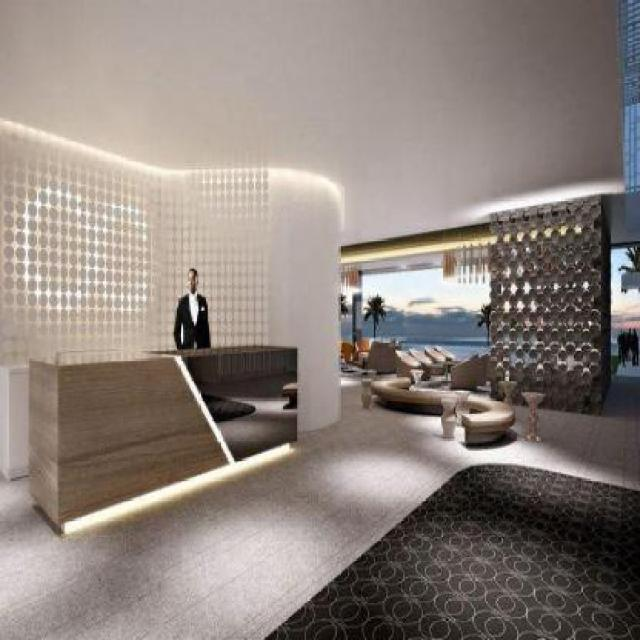frontdesk: (19, 332, 302, 541)
